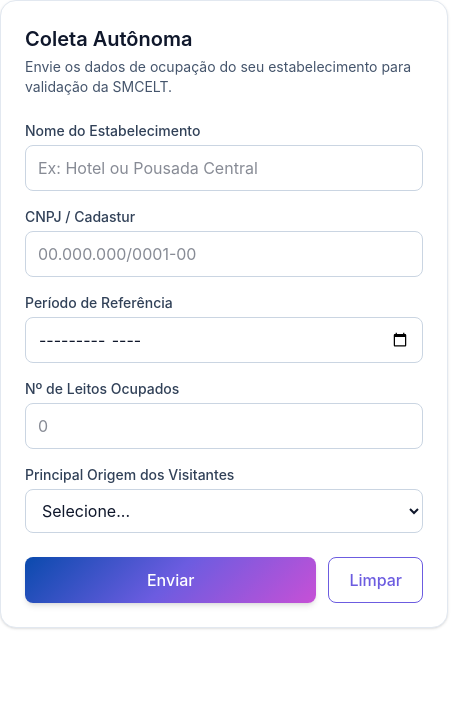
Test: ColetaAutonomaForm › deve submeter os dados corretamente quando o formulário for válido
The width and height of the screenshot is (465, 720).
Type "Grande Hotel Real" into the field labelled "Nome do Estabelecimento" at (224, 168), box [25,145,423,191]
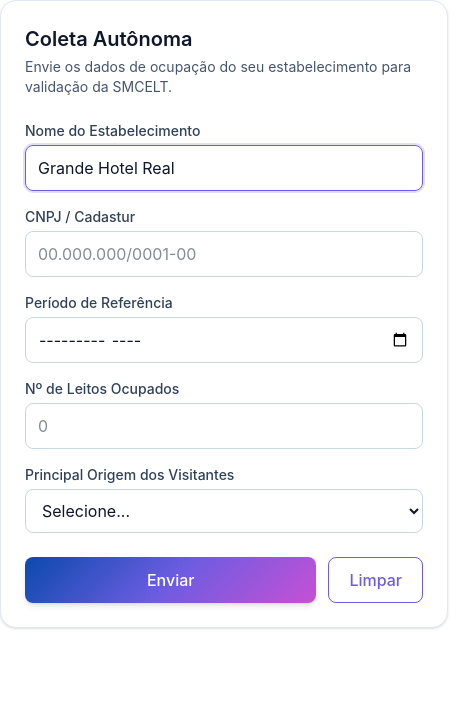
Type "12345678000195" into the field labelled "CNPJ / Cadastur" at (224, 254), box [25,231,423,277]
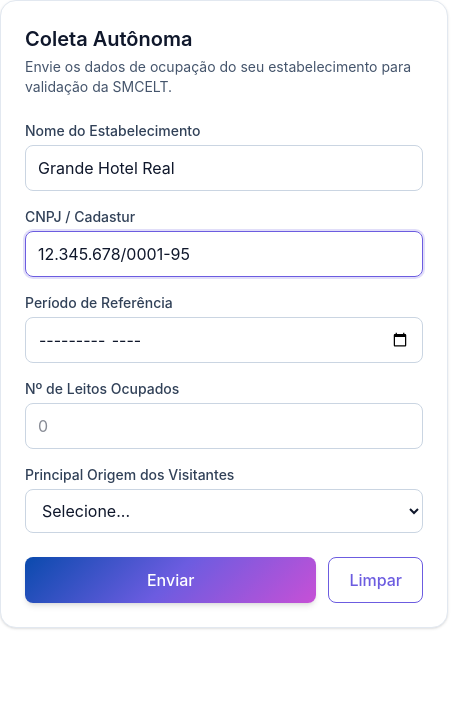
Note: Período de referência
Type "2026-10" into the field labelled "Período de Referência" at (224, 340), box [25,317,423,363]
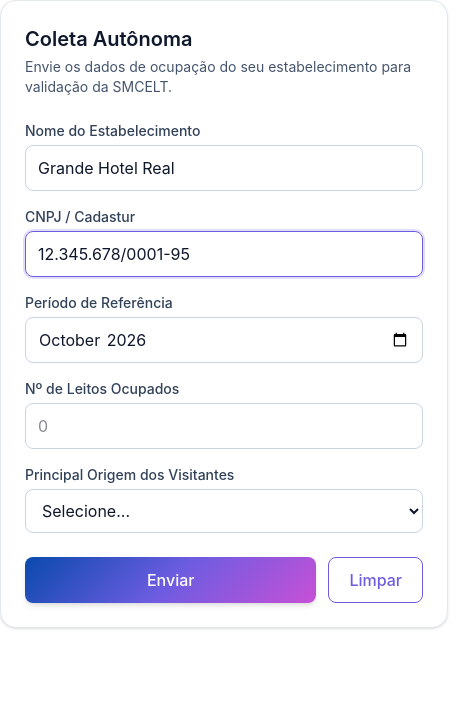
Note: Leitos ocupados
Type "40" into the number field labelled "Nº de Leitos Ocupados" at (224, 426), box [25,403,423,449]
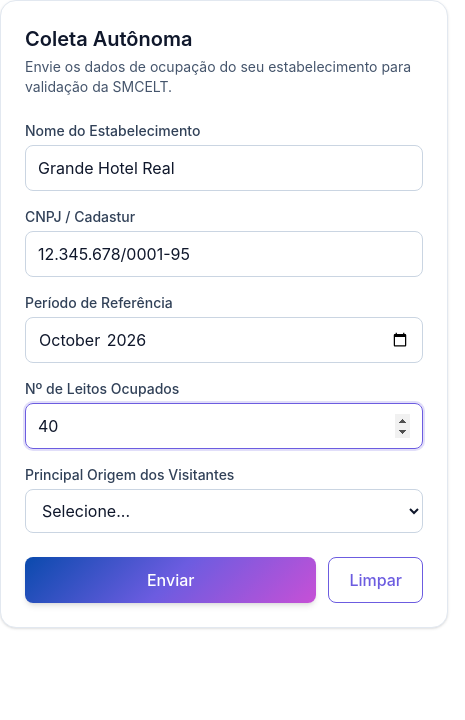
Note: Origem dos visitantes
Select "Região Sudeste (outros estados)" in the dropdown labelled "Principal Origem dos Visitantes" at (224, 511), box [25,489,423,533]
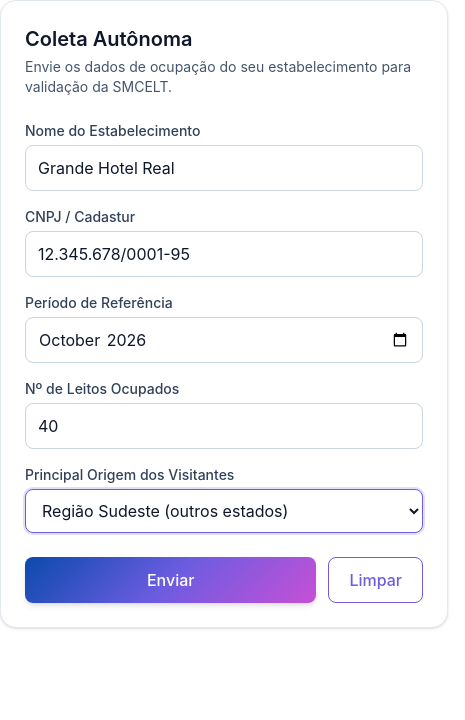
Click the button "Enviar" at (171, 580), box [25,557,316,603]
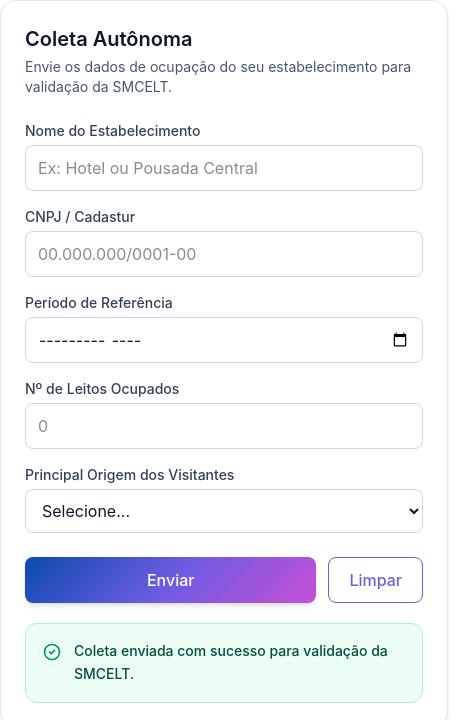
Expected: the text "Coleta enviada com sucesso para validação da SMCELT." is shown, [74,640,406,686]
Expected: the field labelled "Nome do Estabelecimento" is empty, [25,145,423,191]
Expected: the field labelled "CNPJ / Cadastur" is empty, [25,231,423,277]
